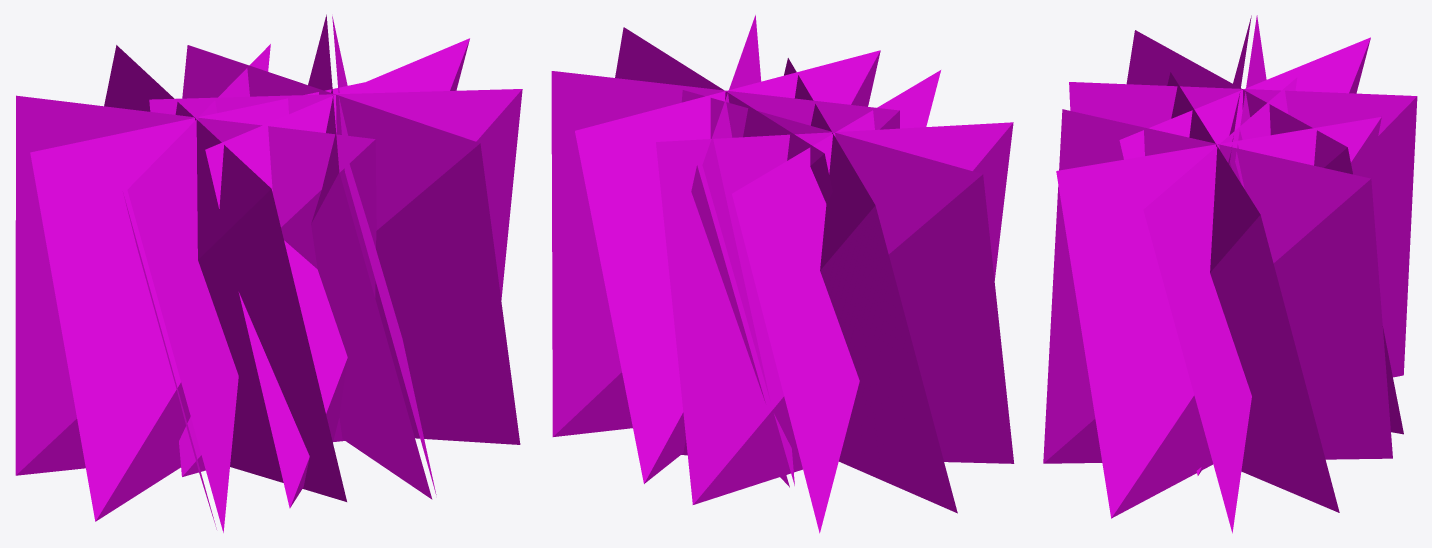
The model's file is lavender_bush_01.glb.
The picture shows the model from 3 angles, left to right: view 1: azimuth 30°, elevation 25°; view 2: azimuth 150°, elevation 25°; view 3: azimuth 270°, elevation 25°; orthographic projection. The views are drawn at different scales.
Parts seen in each view (by area): view 1: lavender_bush_01_mesh-mesh; view 2: lavender_bush_01_mesh-mesh; view 3: lavender_bush_01_mesh-mesh.
Boxes of the visible parts, box(x1,y1,x2,y2) form: lavender_bush_01_mesh-mesh: box(15, 14, 522, 532); lavender_bush_01_mesh-mesh: box(551, 15, 1014, 533); lavender_bush_01_mesh-mesh: box(1043, 15, 1417, 533).
Bounding box in the file's own units: 4.95 × 3.59 × 3.82.
